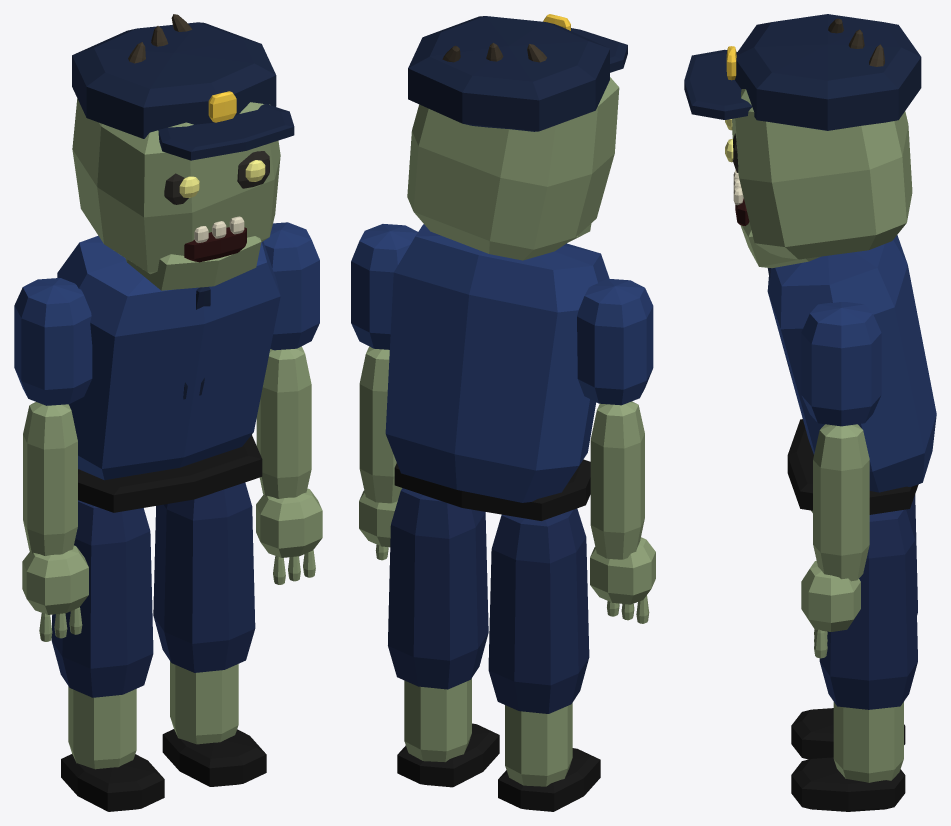
The model's file is mon-cop-1.glb.
3 views of the same model, side by side, from view 1: azimuth 30°, elevation 25°; view 2: azimuth 150°, elevation 25°; view 3: azimuth 270°, elevation 25° (orthographic).
Visible parts, largest first — view 1: head, torso, leg-left, leg-right, arm-right, arm-left; view 2: torso, head, leg-right, leg-left, arm-right, arm-left; view 3: head, torso, leg-left, arm-left, leg-right.
Part boxes in pixels (x1,y1,x2,y2): head: (72,14,294,290); torso: (57,235,280,512); leg-left: (153,482,266,786); leg-right: (51,500,164,811); arm-right: (14,278,92,641); arm-left: (256,222,322,584); torso: (385,224,609,520); head: (407,14,627,260); leg-right: (488,508,600,811); leg-left: (388,488,499,787); arm-right: (577,278,655,623); arm-left: (351,224,417,560); head: (684,14,921,268); torso: (767,235,936,514); leg-left: (791,509,917,811); arm-left: (801,302,881,658); leg-right: (791,494,917,759).
Bounding box in the file's own units: 0.9745 × 2.4 × 0.7362.
